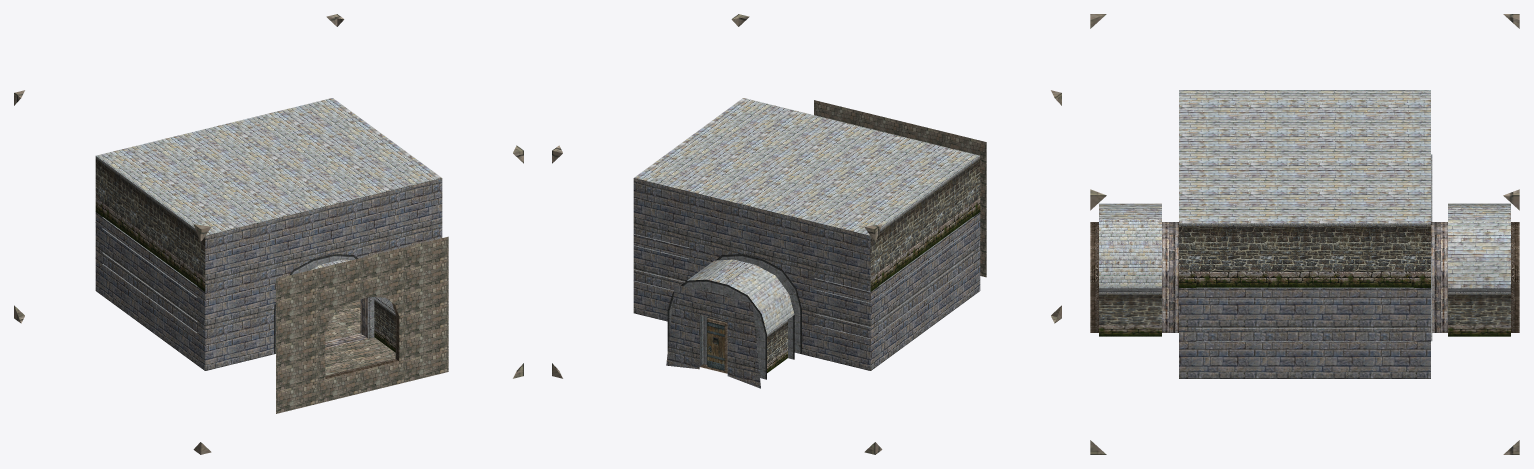
File: lbg_1c.glb
The picture shows the model from 3 angles, left to right: view 1: azimuth 30°, elevation 25°; view 2: azimuth 150°, elevation 25°; view 3: azimuth 270°, elevation 25°; orthographic projection. The views are drawn at different scales.
Visible parts, largest first — view 1: lbg_1c; view 2: lbg_1c; view 3: lbg_1c.
Boxes of the visible parts, box(x1,y1,x2,y2) form: lbg_1c: box(14, 14, 523, 454); lbg_1c: box(552, 14, 1061, 454); lbg_1c: box(1090, 14, 1519, 454).
Bounding box in the file's own units: 15 × 10 × 15.
9 materials, 9 textured.
